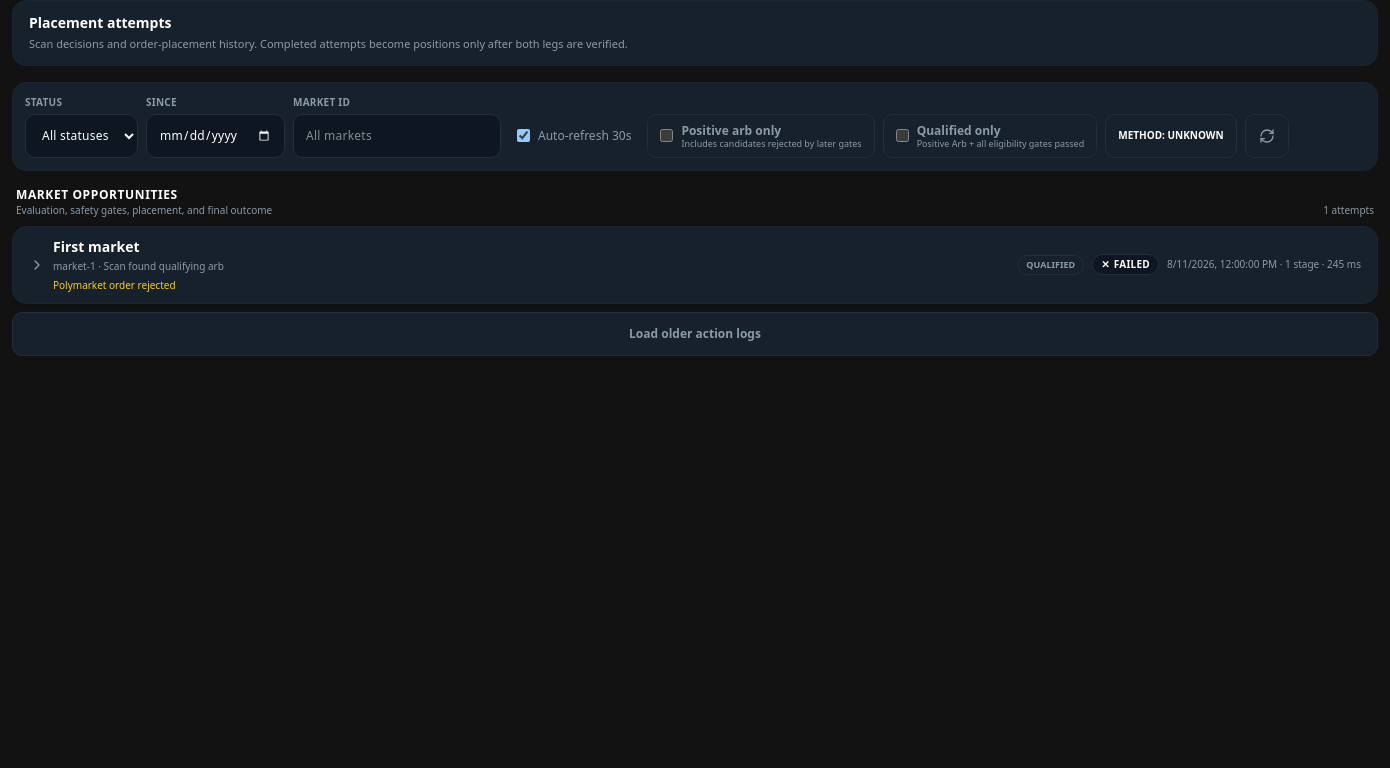
Test: BotActionLogs placement filters › merges cursor pages without duplicating a trade or its events
Expected: the text "First market" is shown, left=53, top=237, right=140, bottom=256
Click the button "Load older action logs" at (695, 334), box left=12, top=312, right=1378, bottom=356
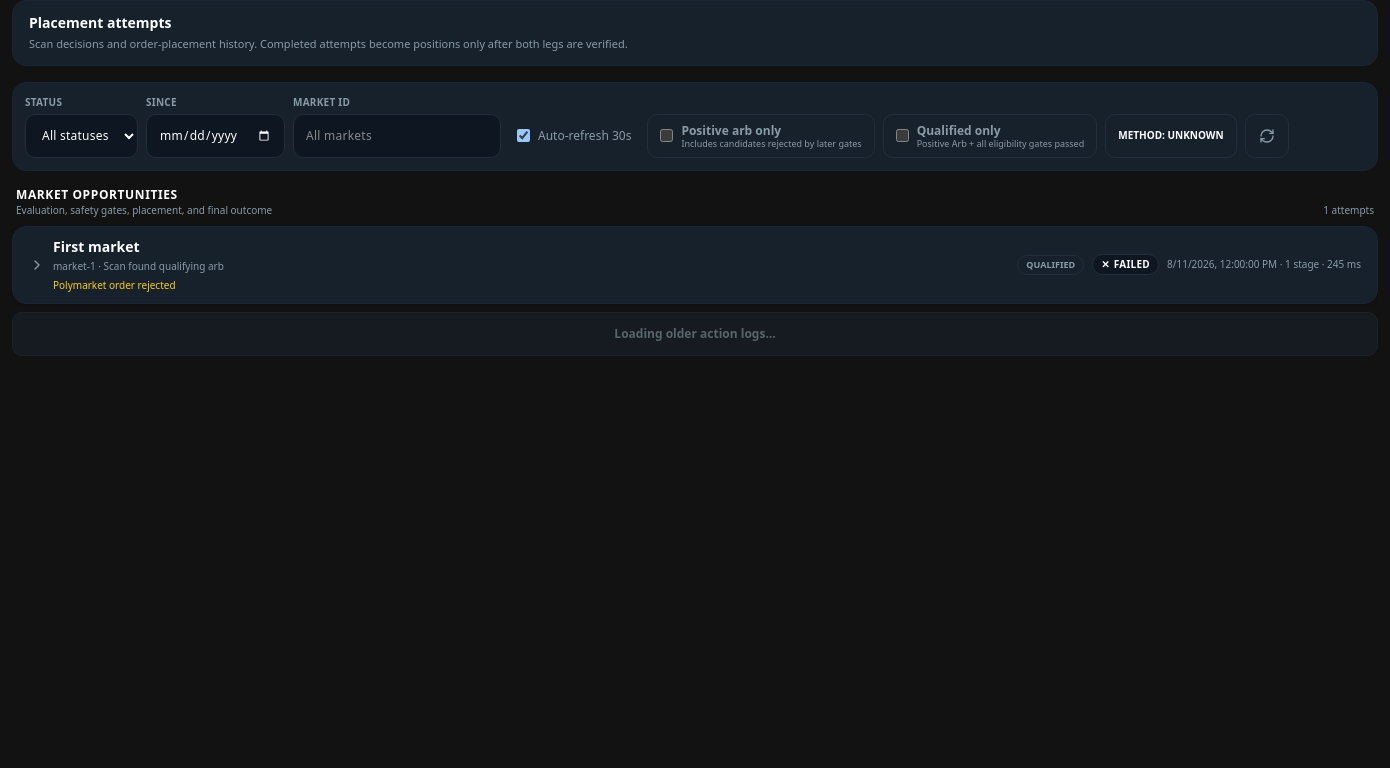
Expected: the text "First market" is shown once, left=53, top=237, right=140, bottom=256
Click the button with aria-label "Expand attempt for First market," at (96, 246), box left=13, top=227, right=1377, bottom=303
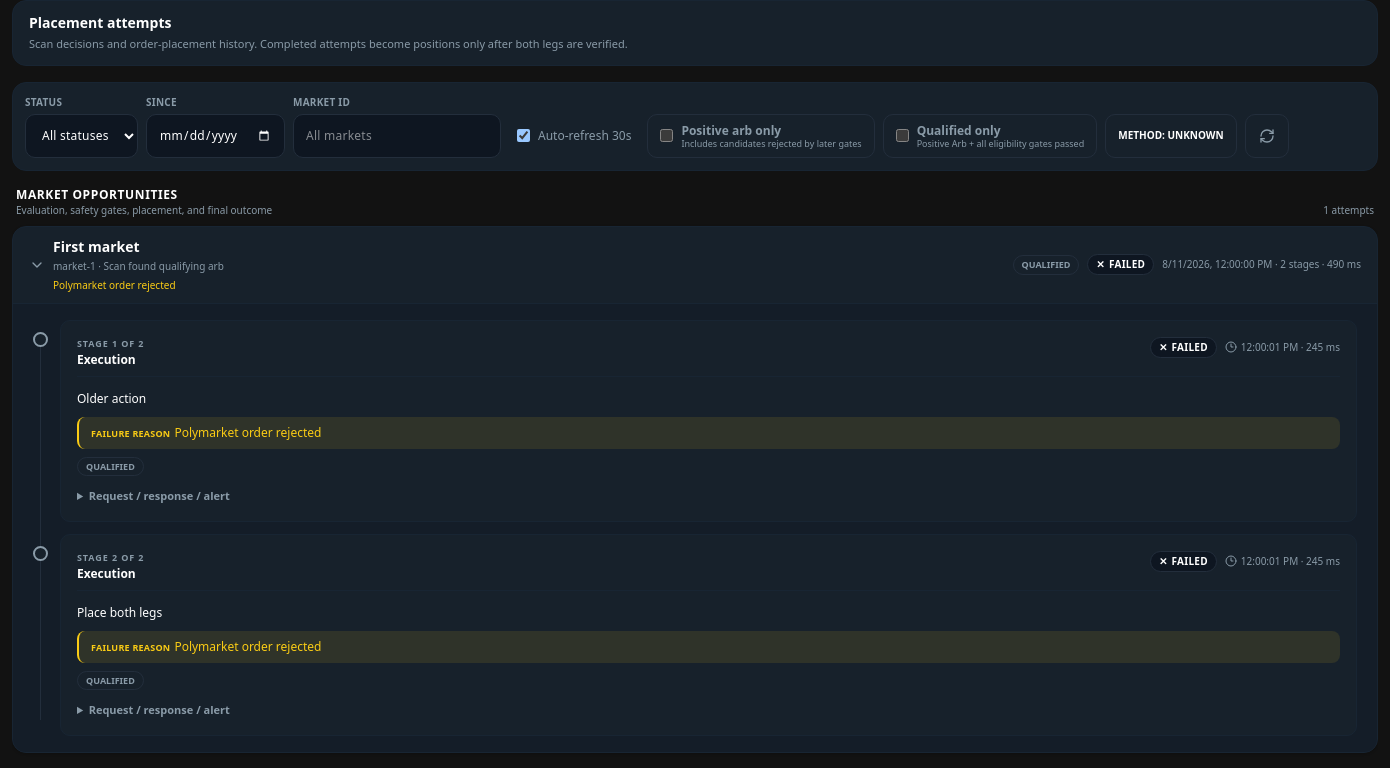
Expected: the text "Older action" is shown, left=77, top=390, right=146, bottom=407
Expected: the text "Place both legs" is shown once, left=77, top=604, right=162, bottom=621
